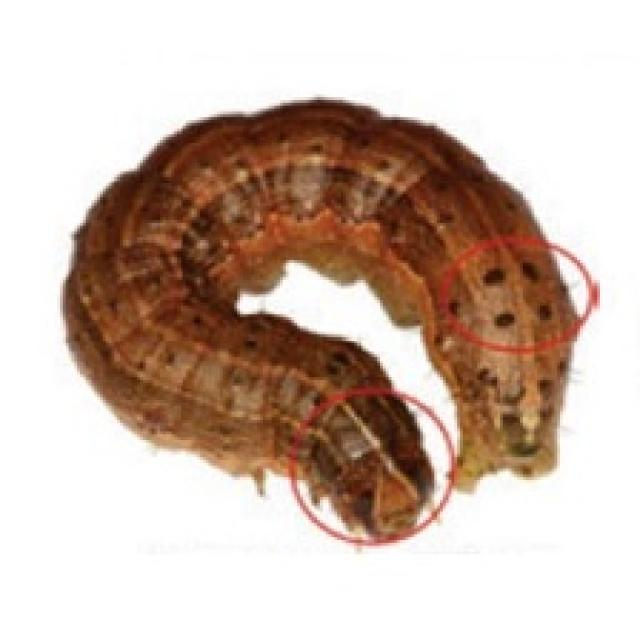worm: (58, 95, 598, 547)
